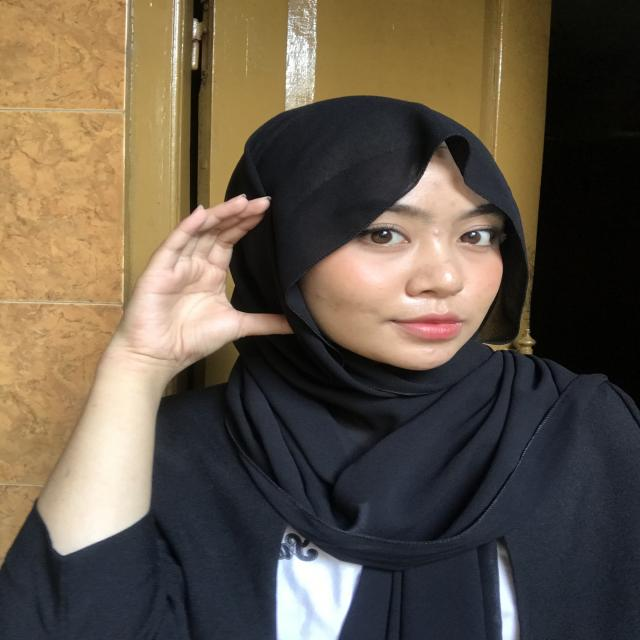mendengar: (110, 189, 298, 377)
